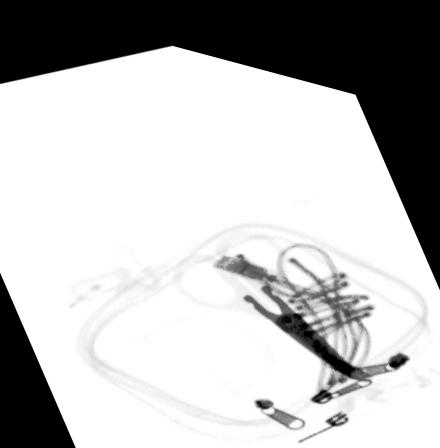Scissors: (166, 224, 373, 362)
